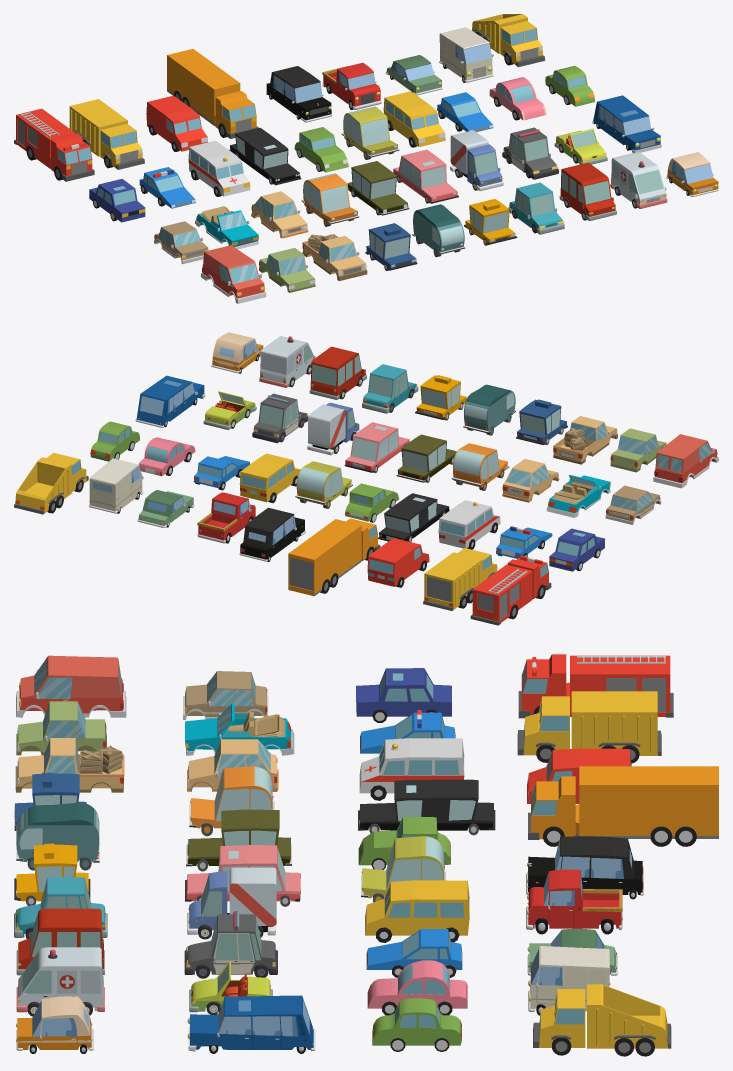
The model's file is pack_cartoon_cars.fbx.
3 renders of one model, top to bottom at view 1: azimuth 30°, elevation 25°; view 2: azimuth 150°, elevation 25°; view 3: azimuth 270°, elevation 25°, orthographic. The views are drawn at different scales.
Parts seen in each view (by area): view 1: yellow_truck, Cube.012, yellow_big_truck2, yellow_big_truck, red_van, blue_minivan, black_lemusine, van.001, ambulance, ambulance2, space_wagon, truck (+27 smaller); view 2: yellow_truck, Cube.012, yellow_big_truck2, yellow_big_truck, red_van, black_lemusine, blue_minivan, white_van, van.001, ambulance, van2, ambulance2 (+27 smaller); view 3: yellow_truck, yellow_big_truck2, yellow_big_truck, Cube.012, blue_minivan, limusin, red_van, space_wagon, black_lemusine, red_truck, ambulance, ambulance2 (+27 smaller).
Boxes of the visible parts, x1,y1,x2,y2 form: yellow_truck: [167, 49, 258, 138]; Cube.012: [14, 108, 94, 181]; yellow_big_truck2: [69, 99, 144, 169]; yellow_big_truck: [472, 14, 545, 67]; red_van: [201, 245, 266, 303]; blue_minivan: [592, 95, 661, 152]; black_lemusine: [266, 66, 332, 122]; van.001: [559, 162, 616, 221]; ambulance: [610, 152, 667, 208]; ambulance2: [188, 140, 250, 196]; space_wagon: [383, 91, 445, 147]; truck: [450, 130, 503, 191]; yellow_truck: [288, 518, 380, 596]; Cube.012: [470, 555, 551, 625]; yellow_big_truck2: [423, 548, 497, 610]; yellow_big_truck: [14, 453, 88, 514]; red_van: [653, 434, 718, 488]; black_lemusine: [239, 507, 305, 561]; blue_minivan: [135, 375, 205, 427]; white_van: [89, 458, 143, 513]; van.001: [309, 346, 366, 399]; ambulance: [259, 336, 315, 387]; van2: [367, 538, 429, 587]; ambulance2: [438, 500, 500, 549]; yellow_truck: [528, 766, 718, 846]; yellow_big_truck2: [517, 691, 661, 763]; yellow_big_truck: [533, 984, 671, 1056]; Cube.012: [518, 654, 673, 718]; blue_minivan: [187, 995, 315, 1053]; limusin: [358, 779, 495, 835]; red_van: [16, 655, 126, 717]; space_wagon: [365, 880, 469, 942]; black_lemusine: [526, 836, 643, 899]; red_truck: [526, 869, 622, 934]; ambulance: [16, 947, 104, 1016]; ambulance2: [359, 738, 464, 800].
Size of the model in its own units: 3789 by 310 by 3208.
